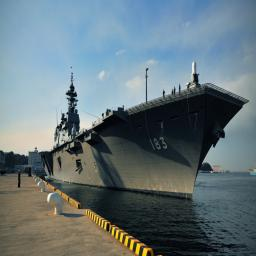Portanaves: (40, 61, 253, 205)
